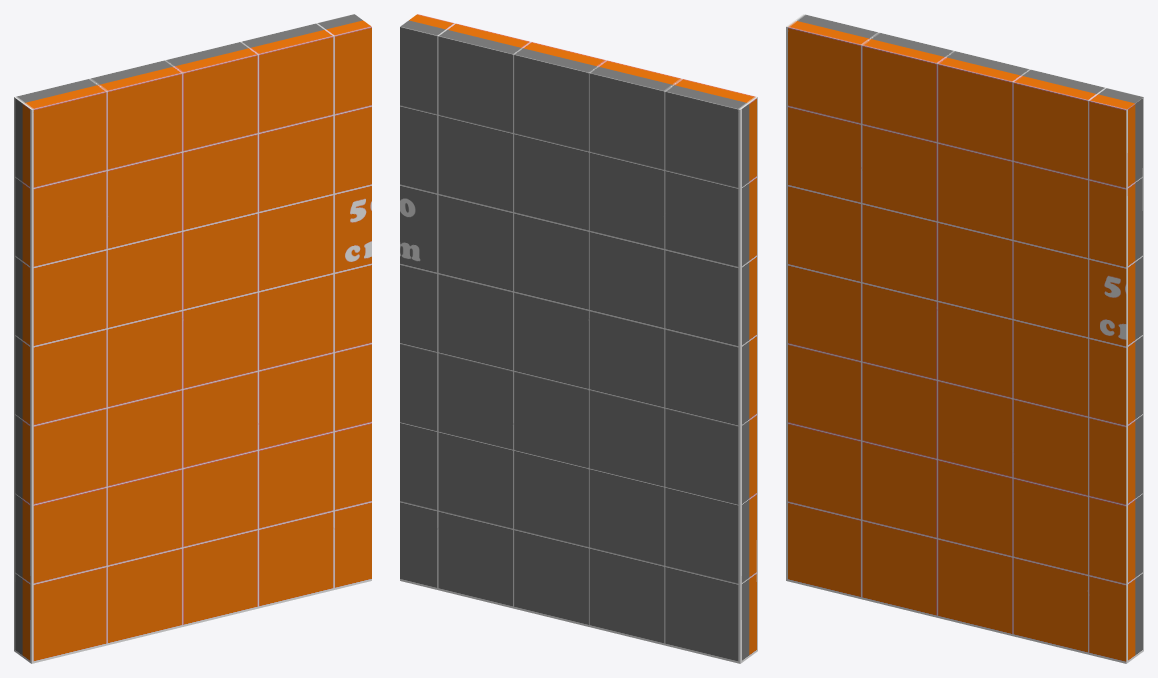
File: M01Wall01_5.FBX
3 renders of one model, left to right at view 1: azimuth 30°, elevation 25°; view 2: azimuth 150°, elevation 25°; view 3: azimuth 330°, elevation 25°, orthographic.
Parts seen in each view (by area): view 1: M01Wall01_5; view 2: M01Wall01_5; view 3: M01Wall01_5.
Part boxes in pixels (box(x1,y1,x2,y2)): M01Wall01_5: box(14, 14, 371, 663); M01Wall01_5: box(400, 14, 757, 663); M01Wall01_5: box(786, 14, 1143, 663).
Size of what is drawn, in the model's own units: 2.25 by 3.5 by 0.2.
